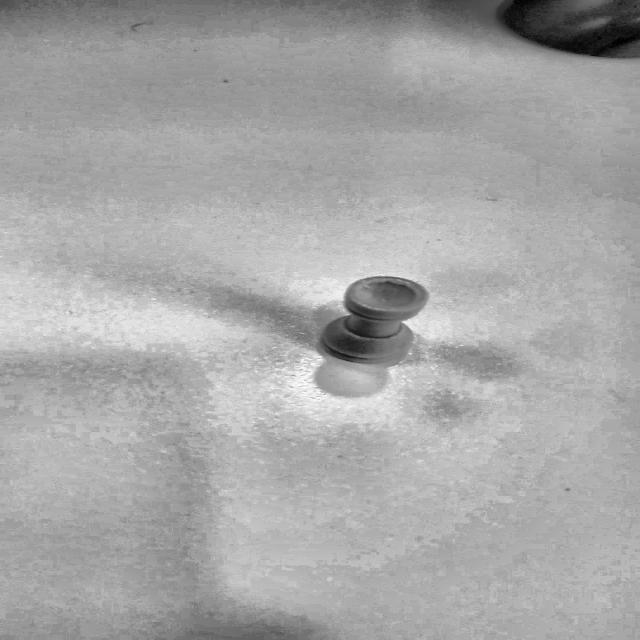white-rook: (320, 277, 427, 364)
